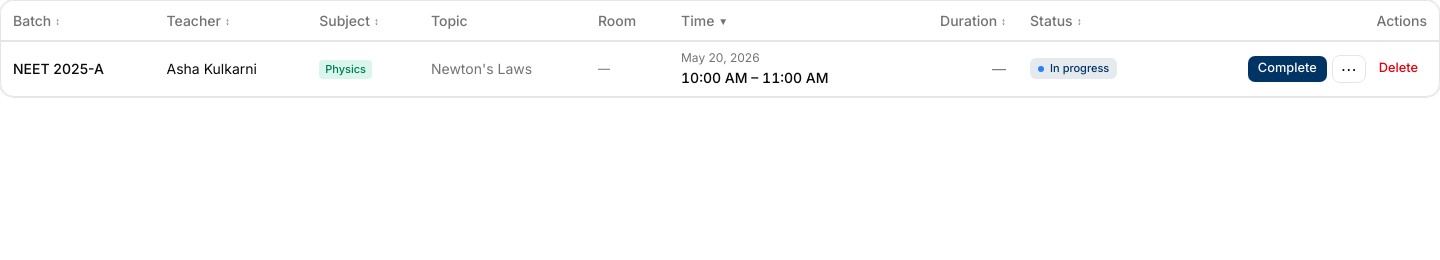
Scenario: LectureTable › started: Complete is the quick-action; menu keeps Cancel, not Complete
Expected: the button "Complete" is shown, left=1247, top=54, right=1328, bottom=82
Click the button named "more actions for lecture". click: (1349, 68)
box: left=1332, top=54, right=1366, bottom=82
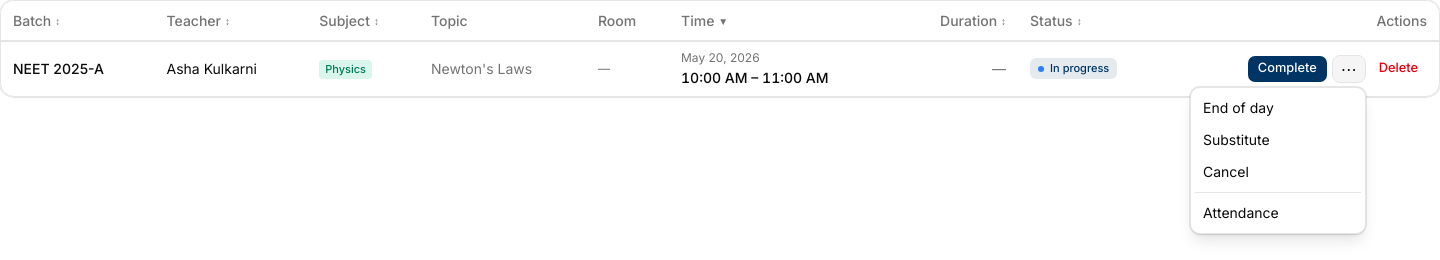
Expected: the menu is shown, left=1190, top=87, right=1366, bottom=234
Expected: the menu item "Cancel" is shown, left=1203, top=163, right=1249, bottom=180
